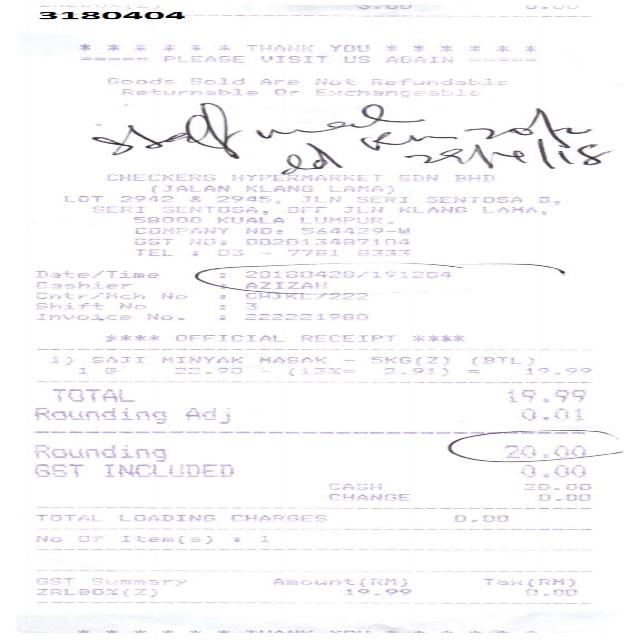text: (32, 444, 166, 461), (33, 407, 165, 423), (102, 463, 232, 477), (244, 270, 451, 278), (314, 88, 478, 97), (38, 10, 184, 18), (501, 444, 584, 458), (243, 238, 407, 245), (49, 388, 135, 401), (271, 578, 405, 586), (228, 173, 381, 180), (506, 389, 584, 402), (34, 588, 154, 596), (33, 270, 156, 277), (244, 313, 365, 320), (481, 577, 574, 586), (119, 88, 257, 94), (369, 78, 506, 84), (518, 464, 586, 476), (103, 173, 215, 180), (172, 334, 282, 341), (89, 578, 185, 586), (159, 206, 267, 213), (519, 408, 582, 420), (298, 216, 392, 224), (32, 463, 84, 477), (118, 534, 209, 542), (244, 292, 365, 298), (148, 184, 228, 193), (184, 407, 229, 423), (297, 334, 394, 341), (32, 292, 144, 298), (229, 514, 325, 521), (34, 281, 129, 288), (36, 313, 129, 320), (300, 227, 408, 233), (369, 356, 446, 364), (380, 367, 448, 376), (38, 4, 158, 9), (160, 55, 244, 62), (115, 514, 212, 520), (327, 493, 410, 500), (425, 196, 521, 202), (133, 227, 227, 233), (257, 54, 326, 62), (106, 76, 174, 84), (172, 366, 240, 374), (285, 367, 353, 375), (523, 482, 591, 490), (480, 206, 544, 214), (470, 356, 532, 364), (244, 282, 326, 288), (158, 356, 240, 362), (130, 215, 200, 222), (398, 205, 467, 212), (242, 184, 310, 191), (215, 215, 283, 222), (34, 302, 102, 309), (34, 514, 102, 521), (245, 44, 312, 51), (524, 367, 591, 374), (327, 185, 393, 192), (344, 588, 410, 595), (214, 196, 279, 203), (326, 482, 382, 490), (383, 56, 452, 62), (257, 356, 325, 362), (117, 195, 174, 202), (187, 77, 243, 84), (355, 249, 409, 256), (537, 494, 591, 501), (524, 588, 578, 595), (91, 205, 144, 212), (355, 195, 406, 202), (286, 249, 337, 256), (88, 356, 142, 362), (452, 514, 505, 520), (340, 205, 383, 212), (451, 174, 493, 181), (132, 238, 174, 245), (134, 248, 170, 256), (328, 44, 369, 51), (395, 174, 436, 181), (298, 195, 339, 202), (62, 195, 102, 202), (186, 238, 226, 245), (32, 577, 72, 584), (144, 313, 182, 320), (313, 78, 354, 84), (285, 206, 326, 212), (258, 78, 298, 84), (356, 4, 411, 8), (244, 227, 280, 233), (524, 4, 577, 8), (35, 534, 61, 542), (117, 302, 146, 309), (216, 248, 241, 256), (76, 534, 101, 542), (342, 55, 368, 62), (50, 356, 71, 364), (158, 292, 185, 298), (535, 196, 558, 203), (272, 88, 297, 94), (245, 630, 312, 632), (102, 366, 114, 374), (243, 302, 256, 309), (187, 195, 199, 202), (328, 630, 368, 632), (76, 366, 85, 374), (258, 535, 267, 541)
